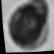correct: (3, 0, 54, 54)
